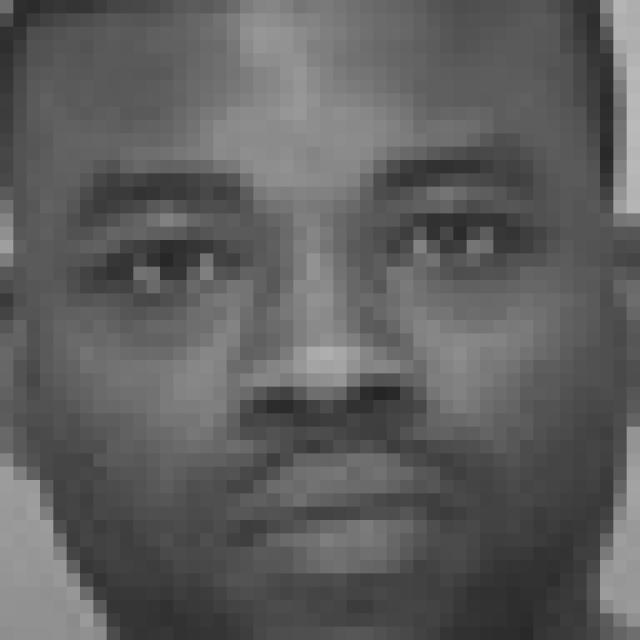neutral: (67, 142, 561, 596)
